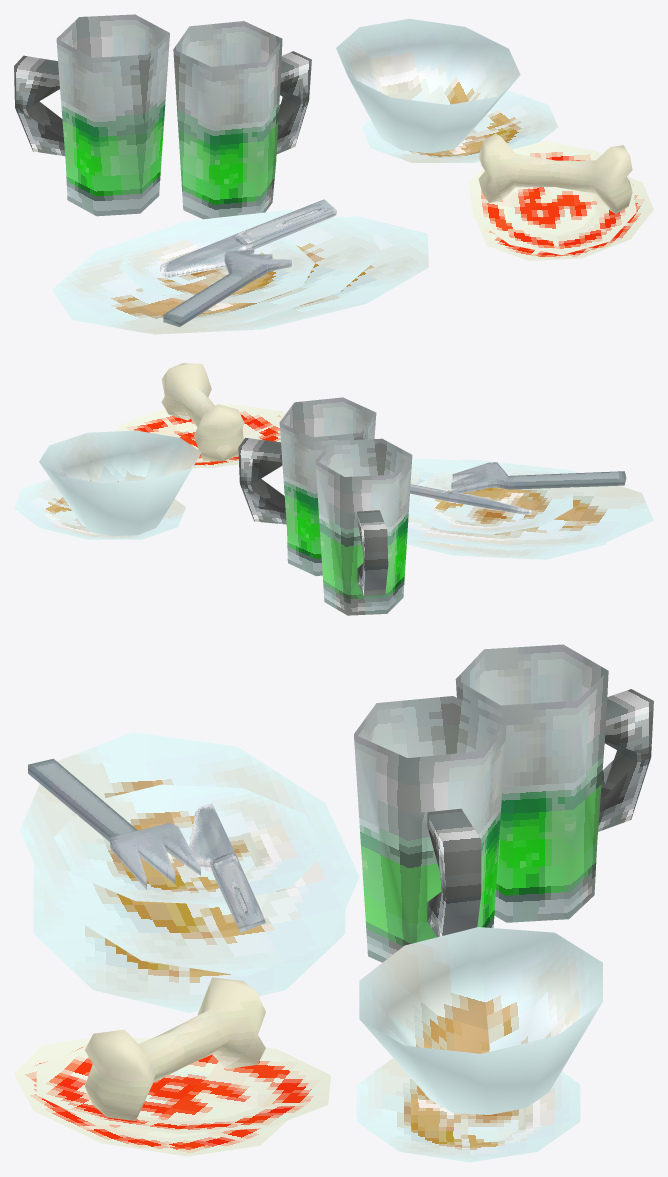
The model's file is food-03.glb.
3 renders of one model, top to bottom at view 1: azimuth 30°, elevation 25°; view 2: azimuth 150°, elevation 25°; view 3: azimuth 270°, elevation 25°, orthographic. The views are drawn at different scales.
Parts seen in each view (by area): view 1: food_03; view 2: food_03; view 3: food_03.
Boxes of the visible parts, x1,y1,x2,y2 form: food_03: (14,14,653,334); food_03: (14,363,653,615); food_03: (14,644,653,1162).
Size of the model in its own units: 336 by 87 by 226.
Materials: 6 (6 with a texture image).
